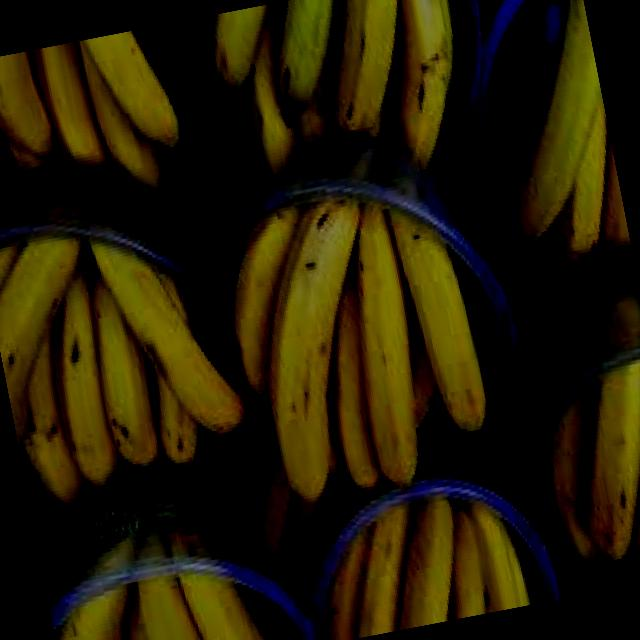Banana: (209, 172, 503, 518), (0, 208, 259, 524), (203, 0, 480, 209), (464, 0, 638, 301), (32, 476, 277, 640), (0, 28, 191, 232), (303, 481, 530, 640), (529, 357, 640, 594)
